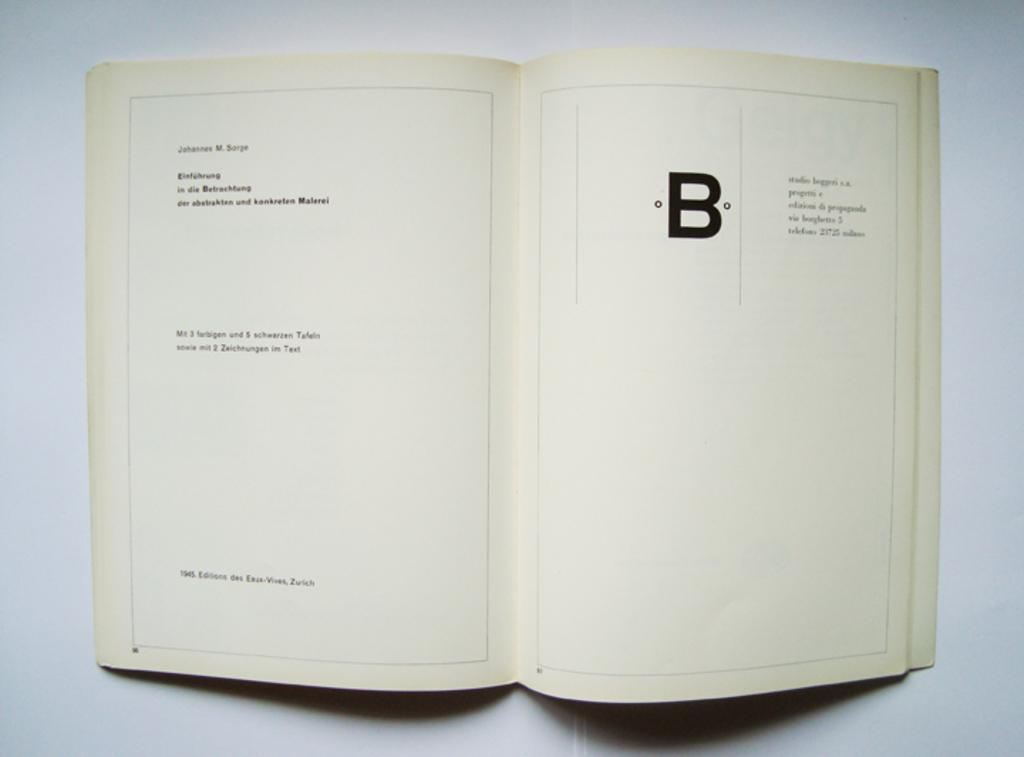book: (146, 38, 957, 720)
